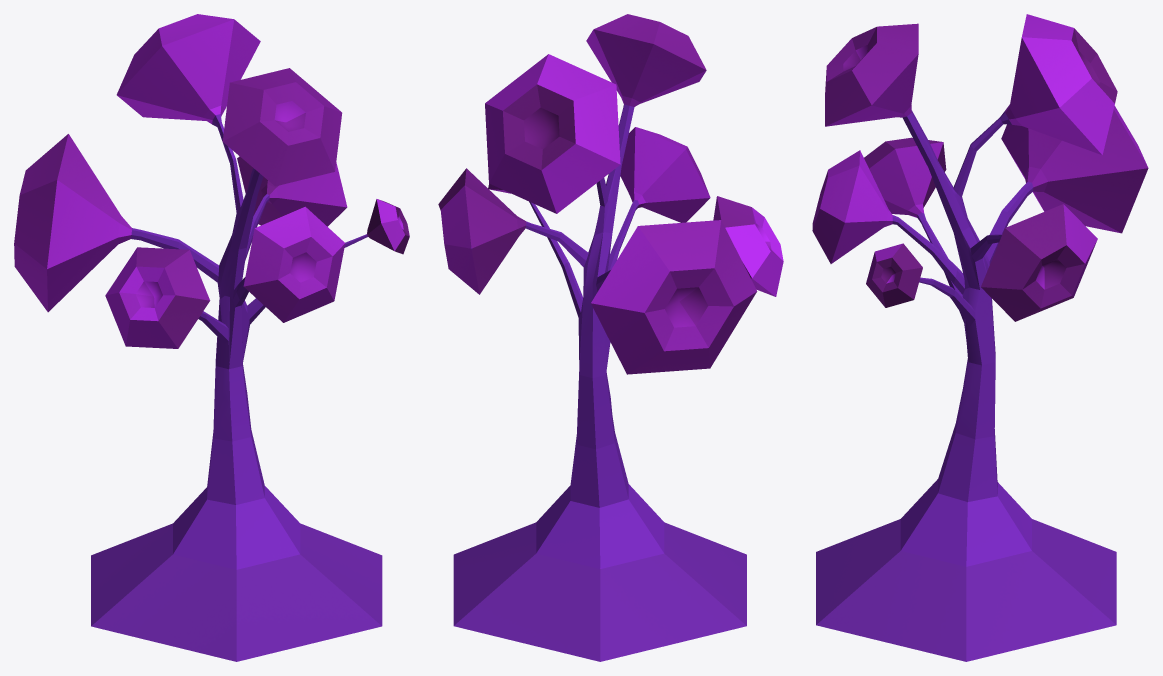
The model's file is TreeBig0.0.1.fbx.
3 views of the same model, side by side, from view 1: azimuth 30°, elevation 25°; view 2: azimuth 150°, elevation 25°; view 3: azimuth 270°, elevation 25° (orthographic). The views are drawn at different scales.
Visible parts, largest first — view 1: pCylinder11; view 2: pCylinder11; view 3: pCylinder11.
Boxes of the visible parts, x1,y1,x2,y2 form: pCylinder11: (14,14,409,661); pCylinder11: (438,14,783,661); pCylinder11: (812,14,1148,661).
Size of the model in its own units: 10.05 by 16.23 by 8.77.
1 material, 1 textured.
